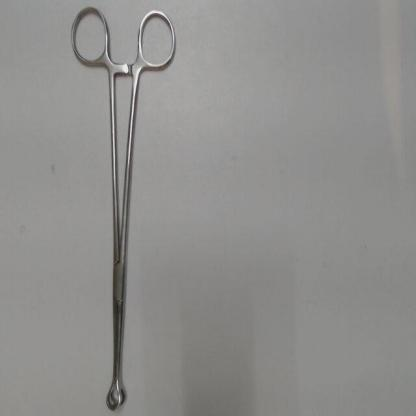8 Babcock Tissue Forceps: (66, 3, 183, 412)
